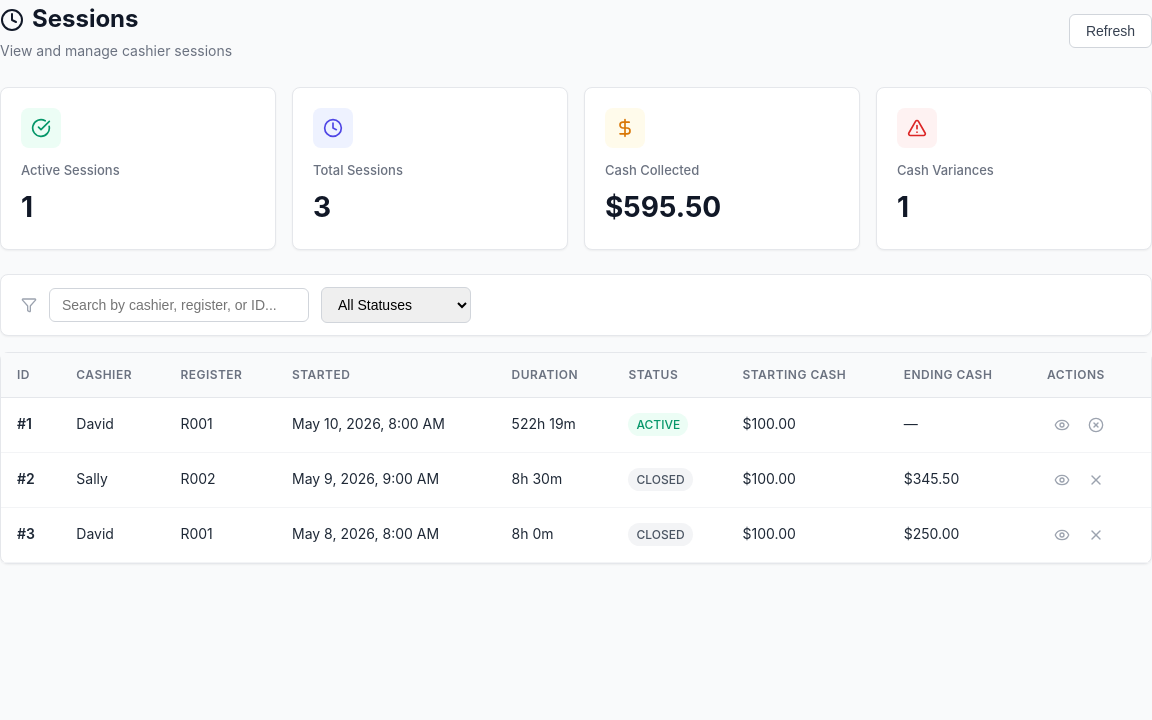
it: Sessions › opens session detail modal
Expected: the text "David" in the row of "May 10, 2026, 8:00 AM" is shown, [76,415,114,432]
Click the first eye icon (David's active session, sorted first)
Click the button titled "View details" in the row of "May 10, 2026, 8:00 AM" at [1062, 425], box [1047,410,1077,440]
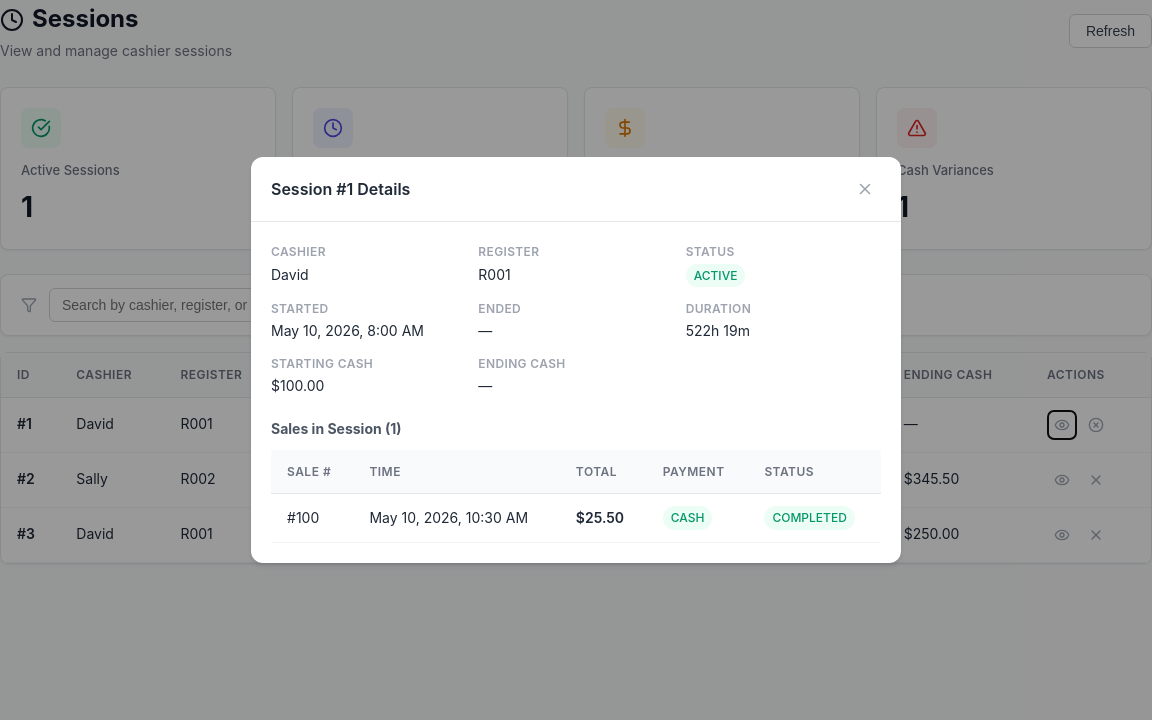
Now the text "$25.50" is shown, box [560,494,647,542]
Now the heading "Sales in Session (1)" is shown, box [271,420,402,437]
